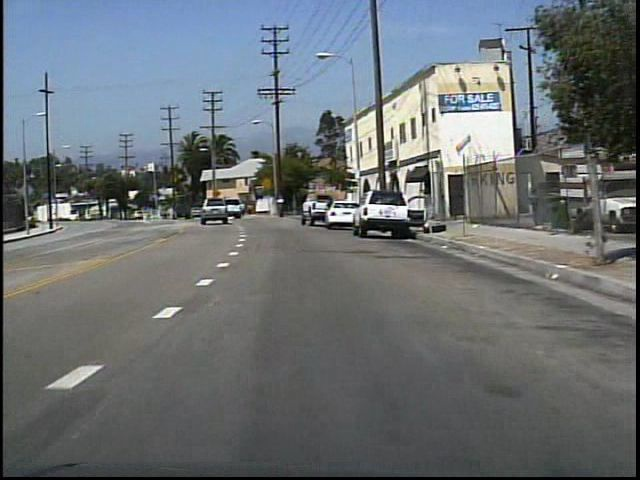person: (245, 201, 256, 219)
